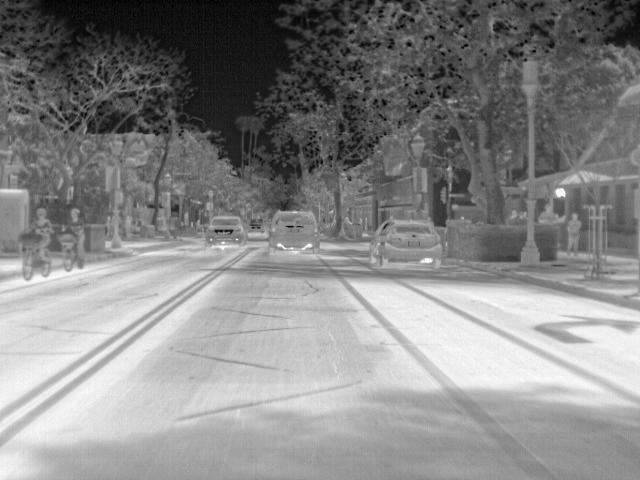car: (369, 217, 445, 272), (265, 208, 323, 255), (204, 214, 246, 246)
person: (29, 211, 52, 267), (62, 208, 85, 264), (564, 213, 582, 256), (538, 203, 562, 225)
